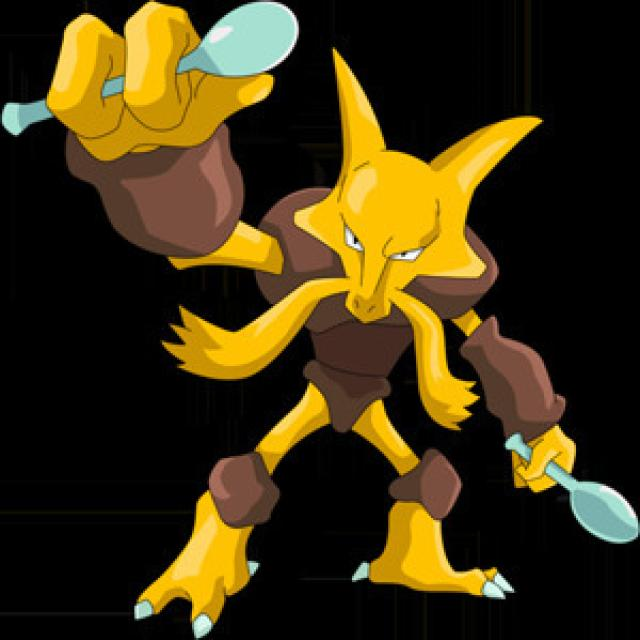Alakazam: (133, 56, 572, 602)
